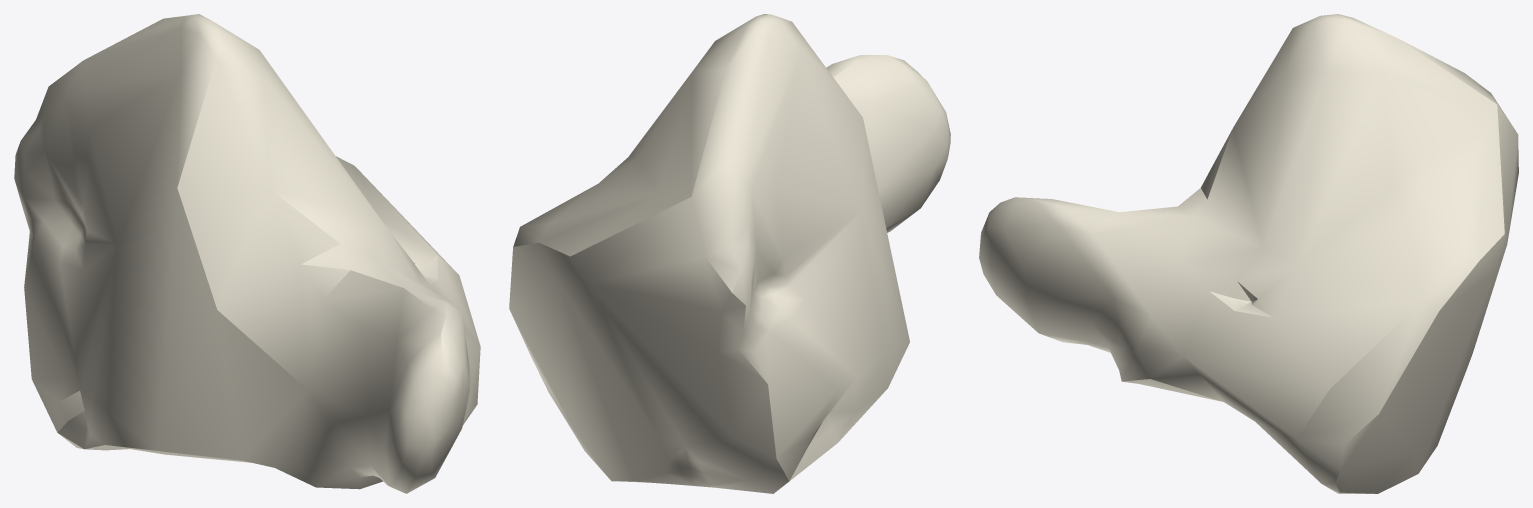
Rendered from fma24448_fj6461.glb.
3 renders of one model, left to right at view 1: azimuth 30°, elevation 25°; view 2: azimuth 150°, elevation 25°; view 3: azimuth 270°, elevation 25°, orthographic. The views are drawn at different scales.
Visible parts, largest first — view 1: FMA24448_FJ6461; view 2: FMA24448_FJ6461; view 3: FMA24448_FJ6461.
Boxes of the visible parts, <box> form: FMA24448_FJ6461: <box>14,14,480,493</box>; FMA24448_FJ6461: <box>509,14,950,493</box>; FMA24448_FJ6461: <box>979,14,1518,493</box>.
Bounding box in the file's own units: 0.0154 × 0.0192 × 0.0225.
